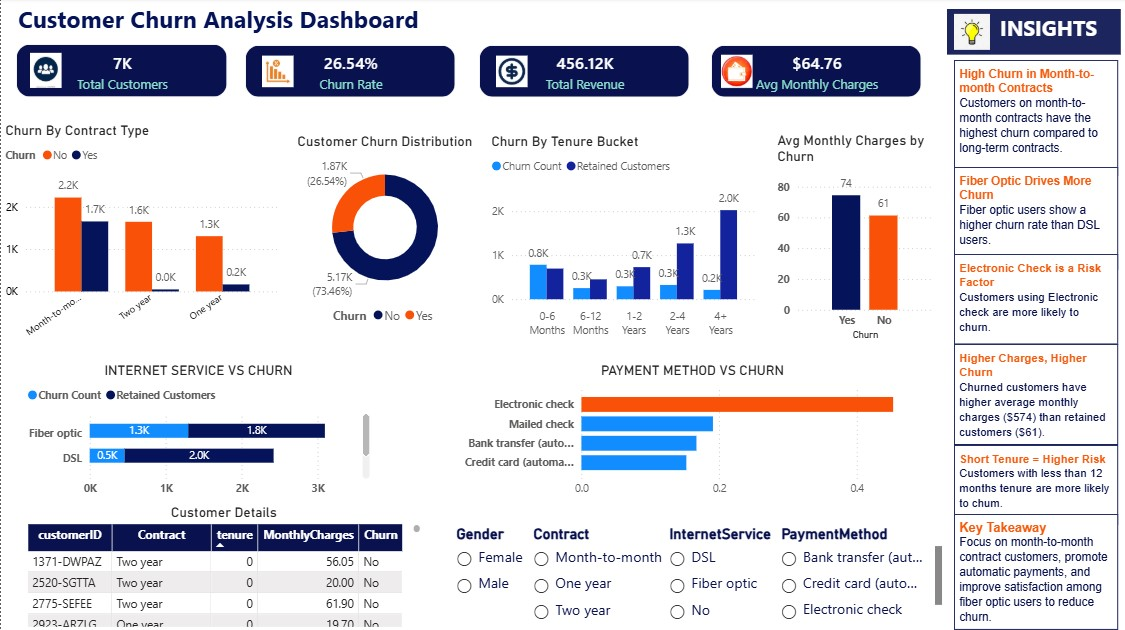

What the dashboard file says about the page in this screenshot:
{"tool":"powerbi","page":{"name":"Page 1","canvas":[1280,720],"ordinal":0},"visuals":[{"type":"cardVisual","fields":{"Data":["Customer-Churn.Total Customers"]},"box":[0,35.3,275,95],"z":0},{"type":"cardVisual","fields":{"Data":["Customer-Churn.Churn Rate"]},"box":[260.9,36.5,274.6,94.6],"z":1000},{"type":"cardVisual","fields":{"Data":["Customer-Churn.Total Revenue"]},"box":[527.5,36.5,274.6,94.6],"z":2000},{"type":"cardVisual","fields":{"Data":["Customer-Churn.Avg Monthly Charges"]},"box":[791.8,36.5,274.6,94.6],"z":3000},{"type":"clusteredColumnChart","title":"Churn By Contract Type","fields":{"Category":["Customer-Churn.Contract"],"Y":["CountNonNull(Customer-Churn.customerID)"],"Series":["Customer-Churn.Churn"]},"box":[0,141.3,323.5,254.1],"z":4000},{"type":"donutChart","title":"Customer Churn Distribution","fields":{"Category":["Customer-Churn.Churn"],"Y":["CountNonNull(Customer-Churn.customerID)"]},"box":[323.5,153.8,227.8,226.7],"z":5000},{"type":"listSlicer","title":"Gender","fields":{"Values":["Customer-Churn.gender"]},"box":[513.8,600.4,87.7,119.6],"z":6000},{"type":"listSlicer","fields":{"Values":["Customer-Churn.Contract"]},"box":[601.5,600.4,172,119.6],"z":7000},{"type":"listSlicer","fields":{"Values":["Customer-Churn.InternetService"]},"box":[756.5,600.4,126.5,119.6],"z":8000},{"type":"tableEx","title":"Customer Details","fields":{"Values":["Customer-Churn.customerID","Customer-Churn.Contract","Customer-Churn.tenure","Customer-Churn.MonthlyCharges","Customer-Churn.Churn"]},"box":[25.1,576.5,458,144.7],"z":9000},{"type":"barChart","title":"PAYMENT METHOD VS CHURN","fields":{"Category":["Customer-Churn.PaymentMethod"],"Y":["Customer-Churn.Churn Rate"]},"box":[509.2,414.7,557.1,161.8],"z":10000},{"type":"barChart","title":"INTERNET SERVICE VS CHURN","fields":{"Category":["Customer-Churn.InternetService"],"Y":["Customer-Churn.Churn Count","Customer-Churn.Retained Customers"]},"box":[25.1,414.7,399.9,161.8],"z":11000},{"type":"columnChart","fields":{"Category":["Customer-Churn.Churn"],"Y":["Customer-Churn.Avg Monthly Charges"]},"box":[879.5,152.7,186.8,241.5],"z":12000},{"type":"clusteredColumnChart","title":"Churn By Tenure Bucket","fields":{"Category":["Customer-Churn.Tenure Bucket"],"Y":["Customer-Churn.Churn Count","Customer-Churn.Retained Customers"]},"box":[553.7,153.8,311,240.4],"z":13000},{"type":"textbox","box":[0,0,483,45.6],"z":14000},{"type":"listSlicer","fields":{"Values":["Customer-Churn.PaymentMethod"]},"box":[884.1,600.4,193.7,119.6],"z":15000},{"type":"image","box":[297.3,29.6,36.5,108.2],"z":17000},{"type":"image","box":[33,28.5,36.5,108.2],"z":18000},{"type":"image","box":[563.9,29.6,36.5,108.2],"z":19000},{"type":"image","box":[820.3,29.6,36.5,108.2],"z":20003},{"type":"textbox","box":[1077.7,12.5,198.2,52.4],"z":20004},{"type":"textbox","box":[1085.7,70.6,186.8,132.2],"z":20005},{"type":"textbox","box":[1085.7,192.5,186.8,117.3],"z":20006},{"type":"textbox","box":[1085.7,291.6,186.8,102.5],"z":20007},{"type":"textbox","box":[1085.7,394.2,186.8,115.1],"z":20008},{"type":"textbox","box":[1085.7,509.2,186.8,91.1],"z":20009},{"type":"textbox","box":[1085.7,587.8,186.8,132.2],"z":20010},{"type":"image","box":[1085.7,17.1,41,42.2],"z":20011}]}

Visuals, with their boxes in screenshot pixels (x1, y1, x2, y2), scaled from the page's 1280x720 canvas onto the 1125x630 screenshot:
cardVisual - Customer-Churn.Total Customers: [x1=0, y1=31, x2=242, y2=114]
cardVisual - Customer-Churn.Churn Rate: [x1=229, y1=32, x2=471, y2=115]
cardVisual - Customer-Churn.Total Revenue: [x1=464, y1=32, x2=705, y2=115]
cardVisual - Customer-Churn.Avg Monthly Charges: [x1=696, y1=32, x2=937, y2=115]
"Churn By Contract Type" clusteredColumnChart: [x1=0, y1=124, x2=284, y2=346]
"Customer Churn Distribution" donutChart: [x1=284, y1=135, x2=485, y2=333]
"Gender" listSlicer: [x1=452, y1=525, x2=529, y2=629]
listSlicer - Customer-Churn.Contract: [x1=529, y1=525, x2=680, y2=629]
listSlicer - Customer-Churn.InternetService: [x1=665, y1=525, x2=776, y2=629]
"Customer Details" tableEx: [x1=22, y1=504, x2=425, y2=629]
"PAYMENT METHOD VS CHURN" barChart: [x1=448, y1=363, x2=937, y2=504]
"INTERNET SERVICE VS CHURN" barChart: [x1=22, y1=363, x2=374, y2=504]
columnChart - Customer-Churn.Churn x Customer-Churn.Avg Monthly Charges: [x1=773, y1=134, x2=937, y2=345]
"Churn By Tenure Bucket" clusteredColumnChart: [x1=487, y1=135, x2=760, y2=345]
textbox: [x1=0, y1=0, x2=425, y2=40]
listSlicer - Customer-Churn.PaymentMethod: [x1=777, y1=525, x2=947, y2=629]
image: [x1=261, y1=26, x2=293, y2=121]
image: [x1=29, y1=25, x2=61, y2=120]
image: [x1=496, y1=26, x2=528, y2=121]
image: [x1=721, y1=26, x2=753, y2=121]
textbox: [x1=947, y1=11, x2=1121, y2=57]
textbox: [x1=954, y1=62, x2=1118, y2=177]
textbox: [x1=954, y1=168, x2=1118, y2=271]
textbox: [x1=954, y1=255, x2=1118, y2=345]
textbox: [x1=954, y1=345, x2=1118, y2=446]
textbox: [x1=954, y1=446, x2=1118, y2=525]
textbox: [x1=954, y1=514, x2=1118, y2=629]
image: [x1=954, y1=15, x2=990, y2=52]
